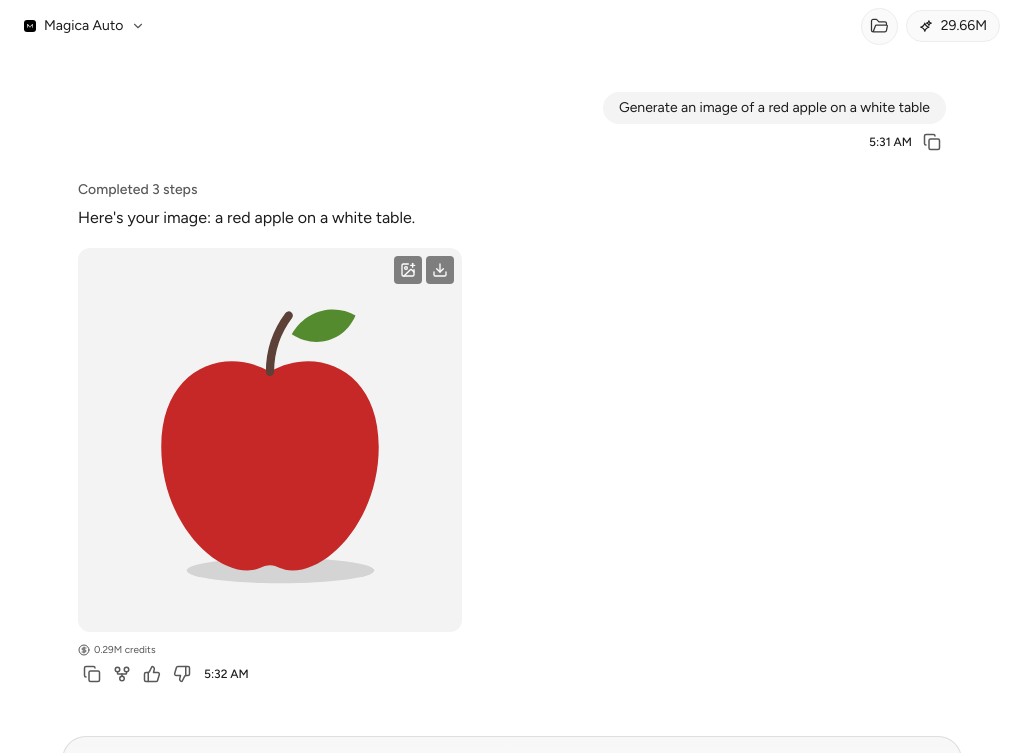
Scenario: the image preview (magica's centered dialog) › closes with its close button and gives focus back to the picture
This screenshot has width=1024, height=753.
Click the button named "Open A red apple on a white table" at [270, 440], box [78,248,462,632]
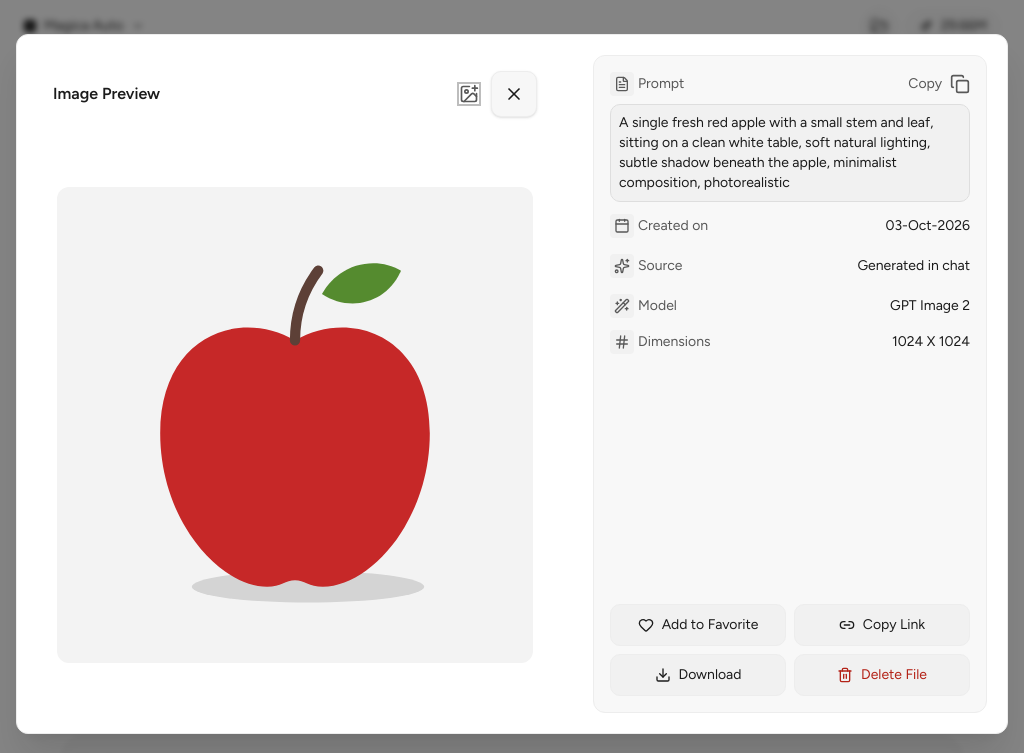
Click the button named "Close preview" at [514, 94], box [491,71,537,117]
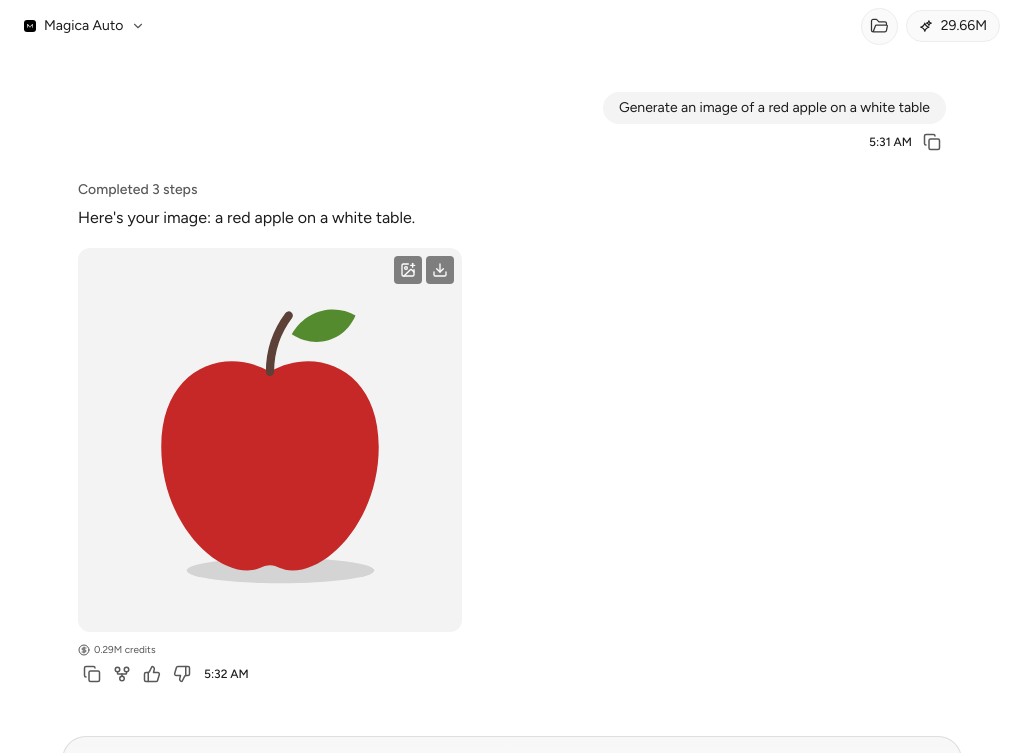
expect the dialog is gone: met
